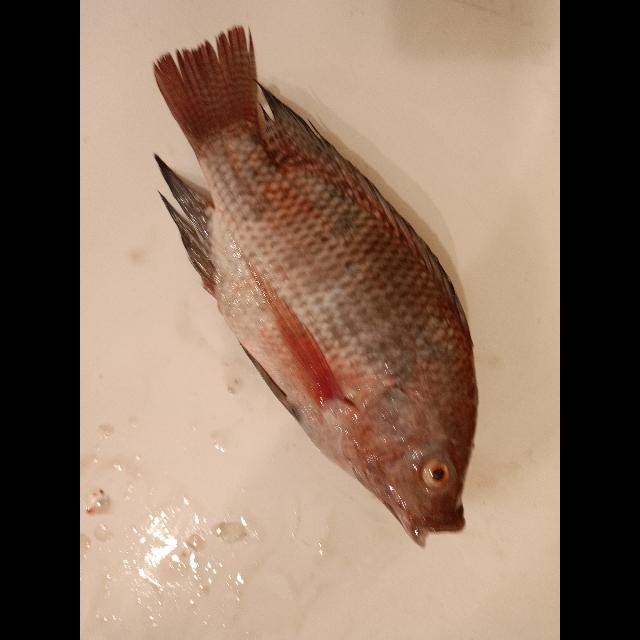Tilapia: (156, 24, 477, 550)
